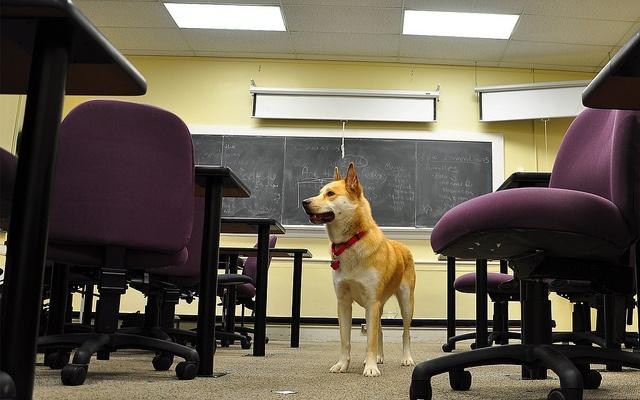Kursi: (404, 105, 639, 398)
